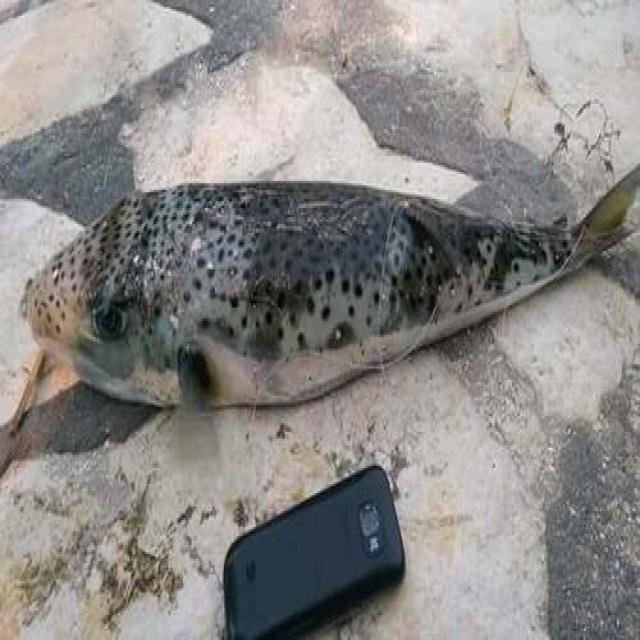Balik: (24, 166, 639, 407)
